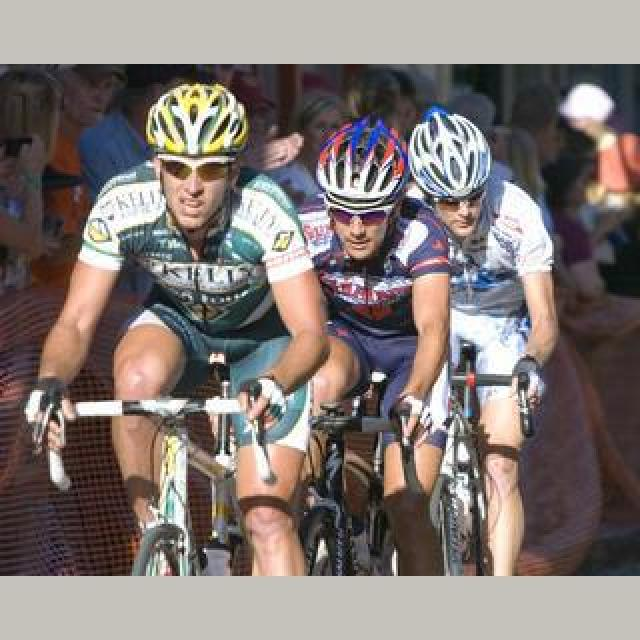MC-Bike: (46, 80, 346, 568), (406, 104, 564, 560), (310, 130, 452, 554)
Person: (42, 378, 308, 574)
